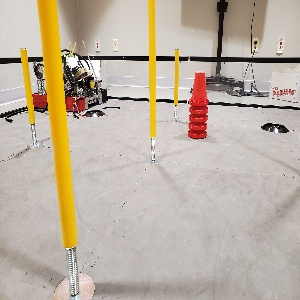Red_5: (196, 63, 209, 140)
